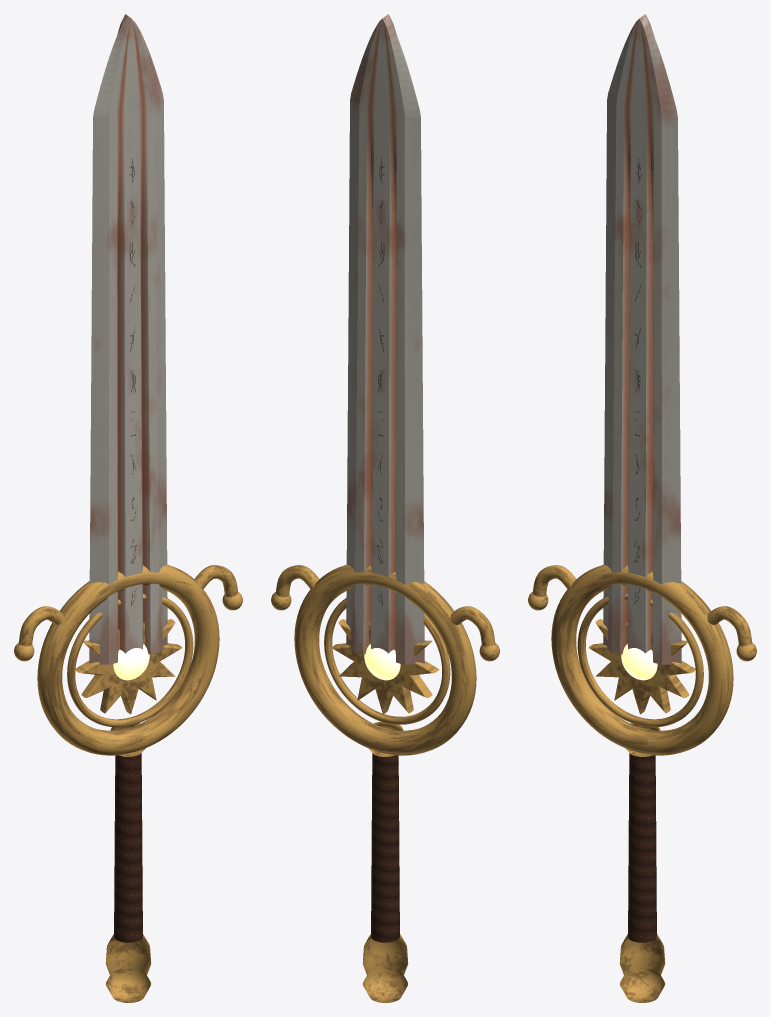
Rendered from sword.glb.
3 views of the same model, side by side, from view 1: azimuth 30°, elevation 25°; view 2: azimuth 150°, elevation 25°; view 3: azimuth 330°, elevation 25° (orthographic).
Parts seen in each view (by area): view 1: blade, sunRing, grip, sunRays, sunRingInner, pommel, guardFlare (×2), sunCore; view 2: blade, sunRing, grip, sunRays, sunRingInner, pommel, guardFlare (×2), sunCore; view 3: blade, sunRing, grip, sunRays, sunRingInner, pommel, guardFlare (×2), sunCore.
Part boxes in pixels (x1,y1,x2,y2): blade: (89, 14, 167, 664); sunRing: (37, 565, 219, 755); grip: (114, 753, 142, 942); sunRays: (75, 619, 182, 714); sunRingInner: (67, 593, 193, 727); pommel: (105, 934, 151, 1002); guardFlare (×2): (18, 565, 238, 646); sunCore: (113, 644, 149, 680); blade: (346, 14, 424, 664); sunRing: (294, 565, 476, 755); grip: (371, 753, 399, 942); sunRays: (331, 619, 439, 714); sunRingInner: (324, 598, 450, 724); pommel: (362, 934, 408, 1002); guardFlare (×2): (275, 565, 495, 646); sunCore: (364, 644, 400, 680); blade: (603, 14, 681, 664); sunRing: (551, 565, 733, 755); grip: (628, 753, 656, 942); sunRays: (588, 619, 695, 714); sunRingInner: (577, 593, 703, 727); pommel: (619, 934, 665, 1002); guardFlare (×2): (532, 565, 752, 646); sunCore: (621, 644, 657, 680).
Bounding box in the file's own units: 1.15 × 4.77 × 0.2.
4 materials, 3 textured.
